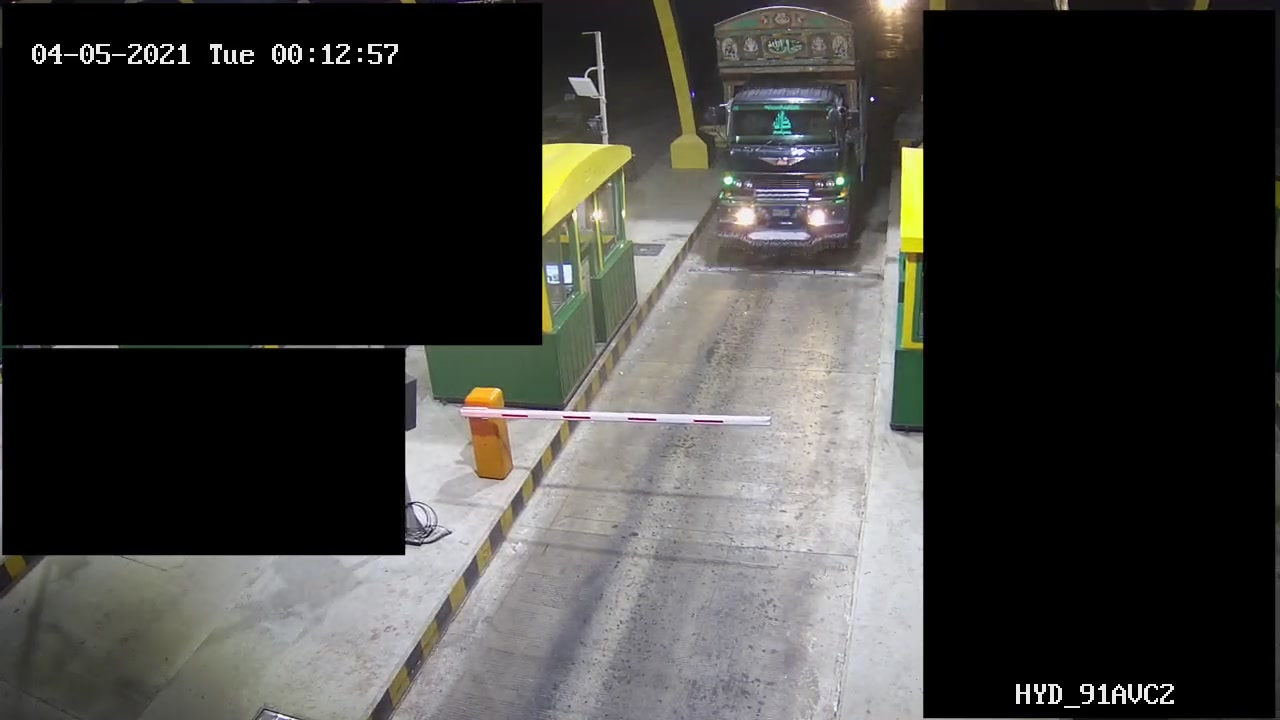F5: (706, 1, 882, 267)
